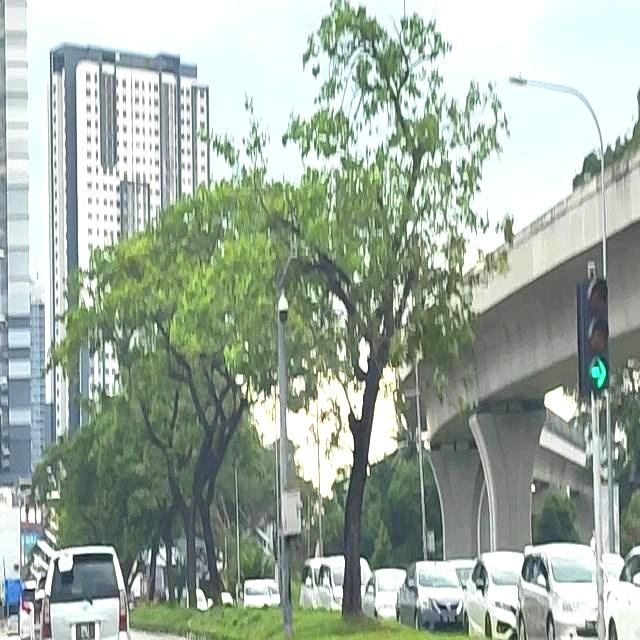Green: (584, 278, 610, 394)
